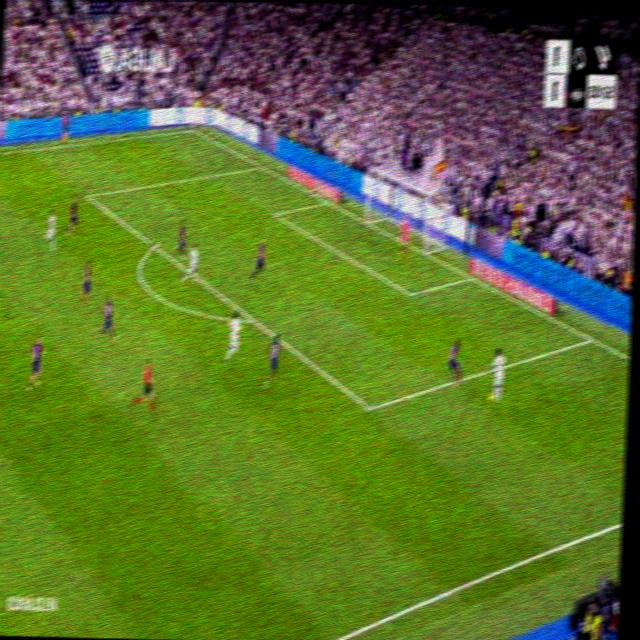bigarea_bottom_inner: (364, 395, 375, 420)
bigarea_bottom_outter: (585, 328, 597, 348)
bigarea_top_inner: (85, 188, 92, 202)
bigarea_top_outter: (257, 160, 264, 171)
bottom_arc_area_intersection: (246, 308, 257, 328)
corner: (189, 124, 196, 133)
smallarea_bottom_inner: (406, 285, 415, 301)
smallarea_top_inner: (272, 207, 279, 220)
top_arc_area_intersection: (150, 236, 160, 253)
